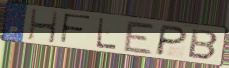B: (187, 27, 221, 61)
E: (122, 19, 157, 57)
F: (59, 12, 93, 46)
H: (27, 8, 60, 45)
L: (95, 16, 118, 51)
P: (153, 24, 190, 57)
